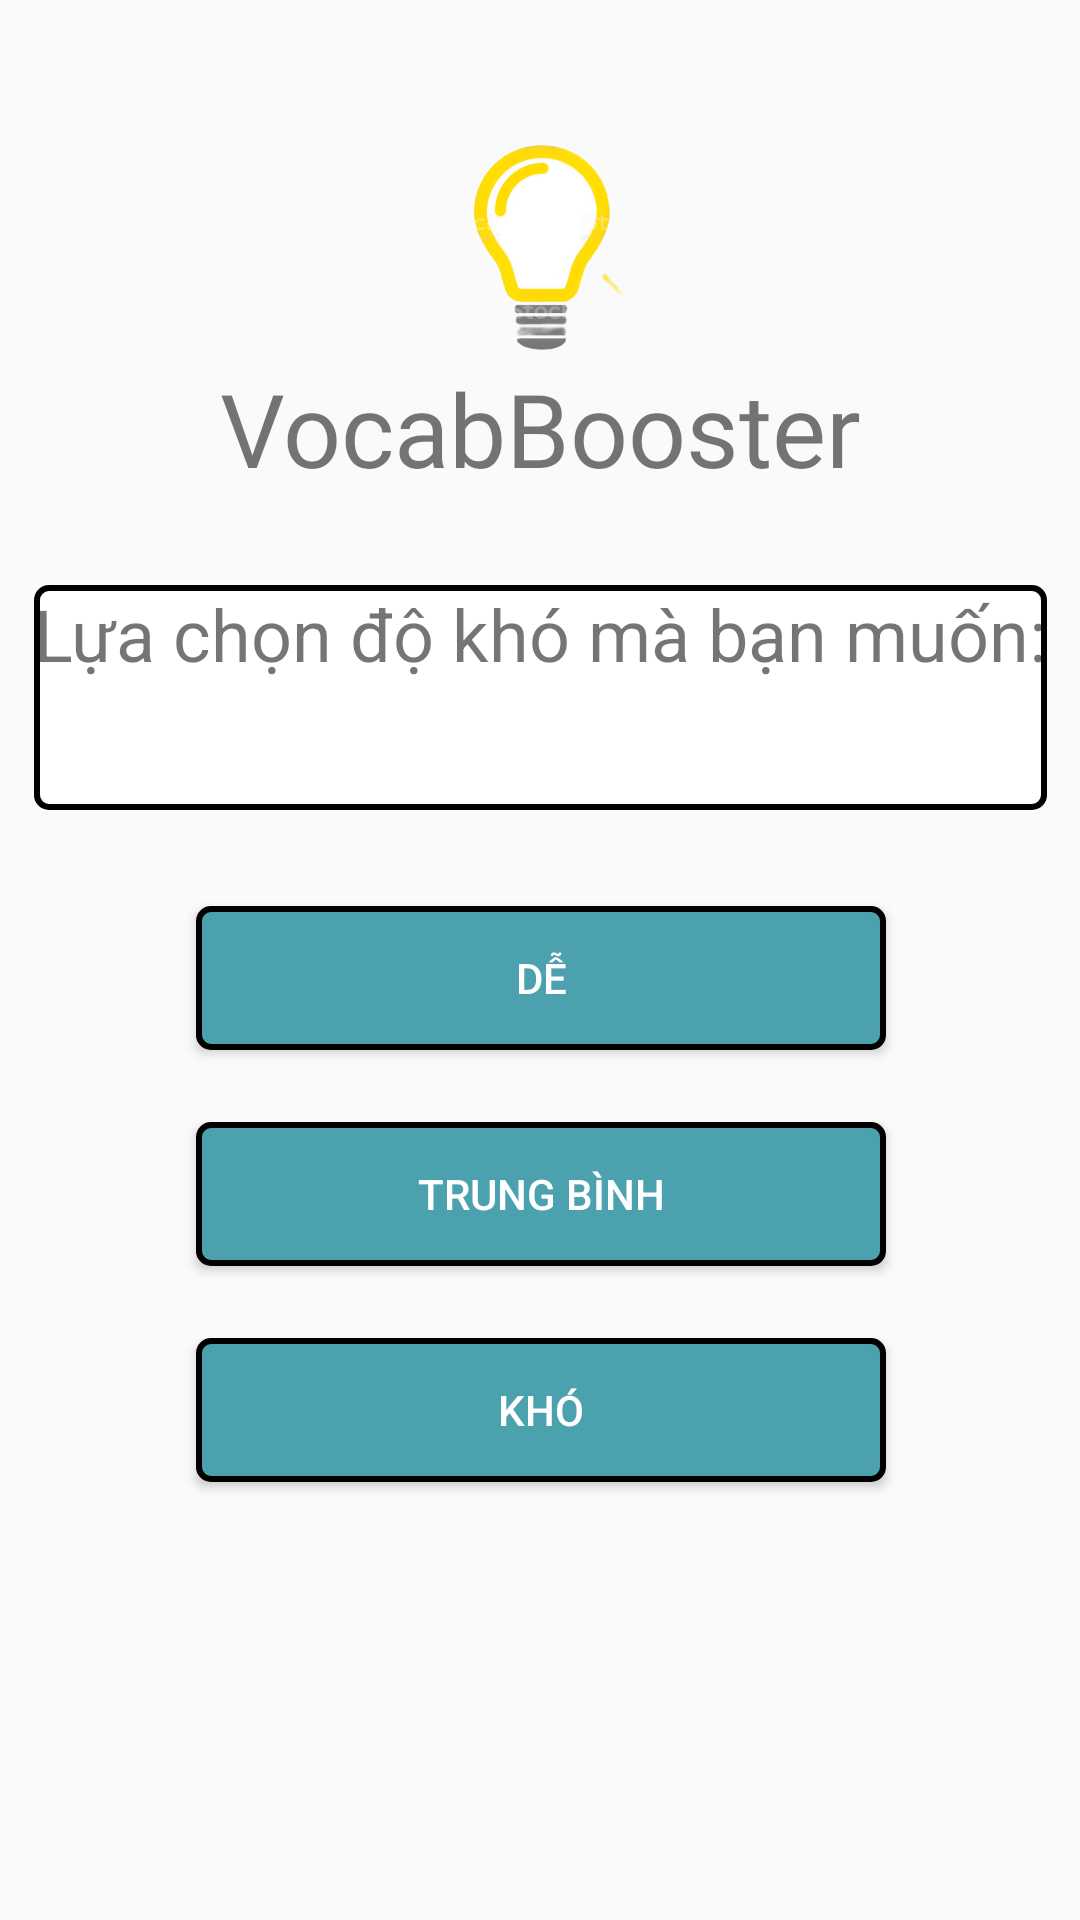

Where to tap for icons on this 1080px x 1920px app screen, as (x,y):
bongden: (548,247)
